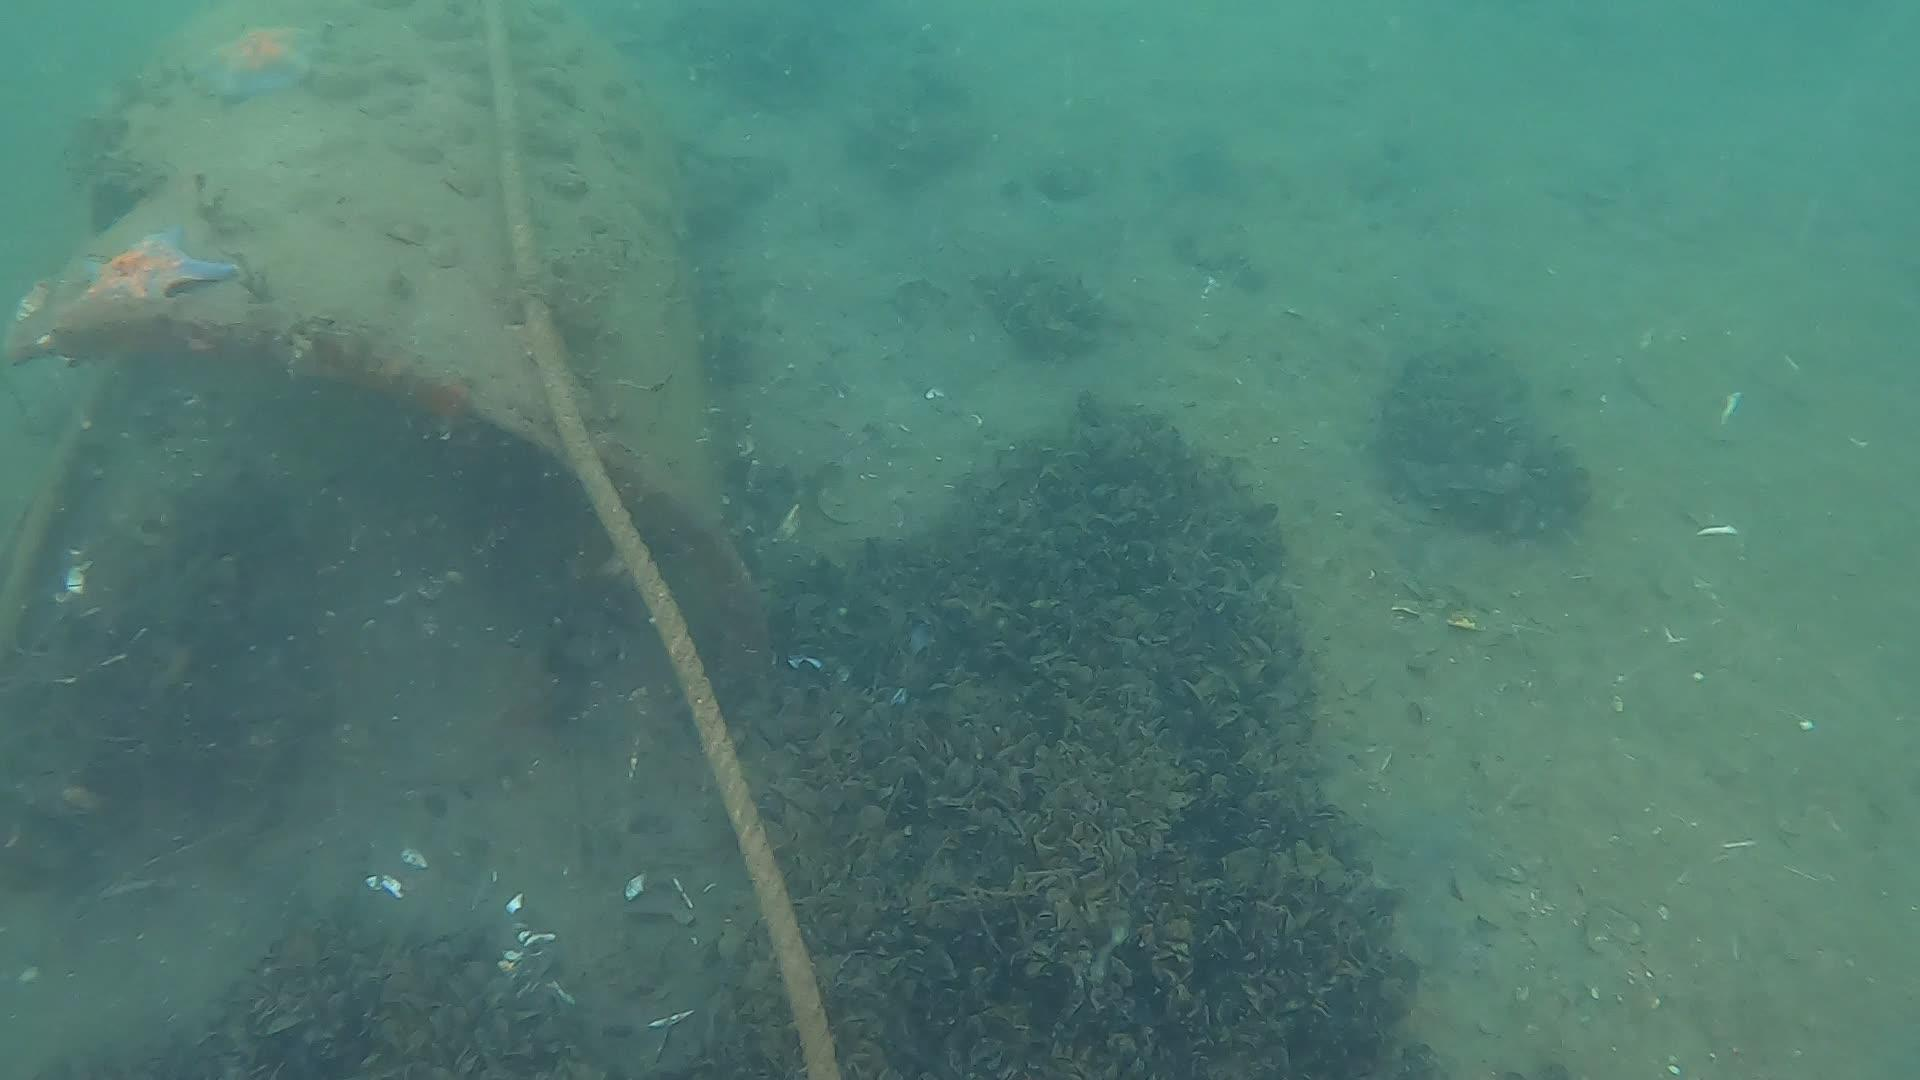rope: (477, 0, 847, 1080)
